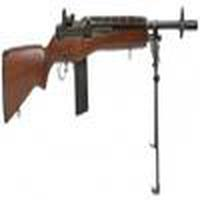gun: (3, 16, 200, 130)
